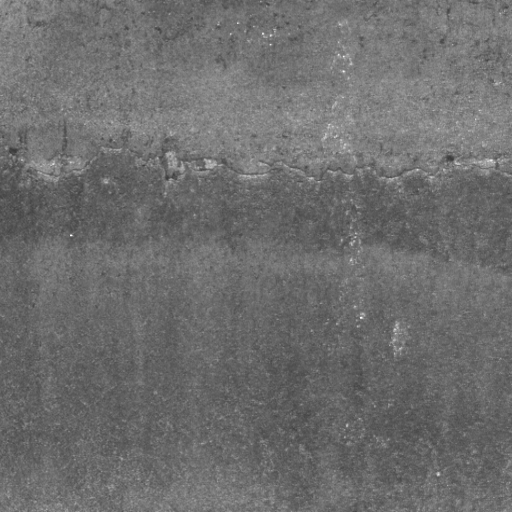hengxiangliewen: (3, 143, 512, 192)
